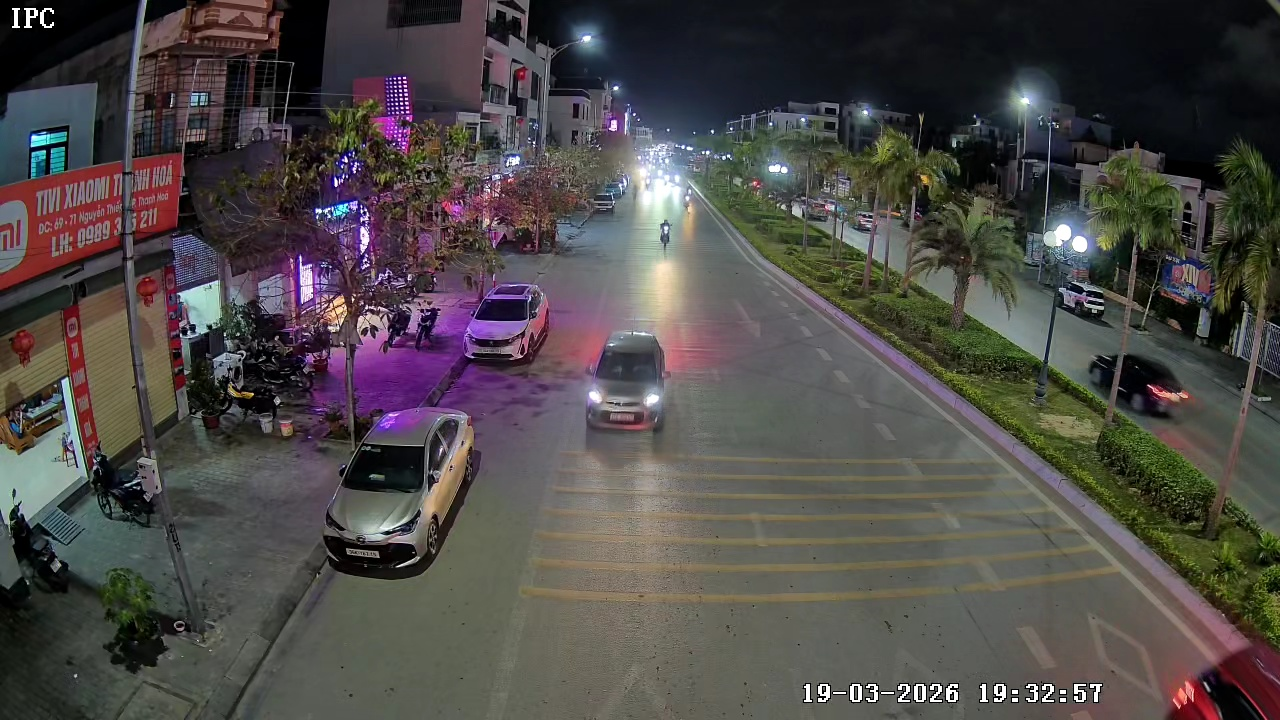car: (322, 405, 482, 576), (584, 328, 671, 436), (463, 281, 551, 364)
motorbike: (657, 217, 673, 248)
